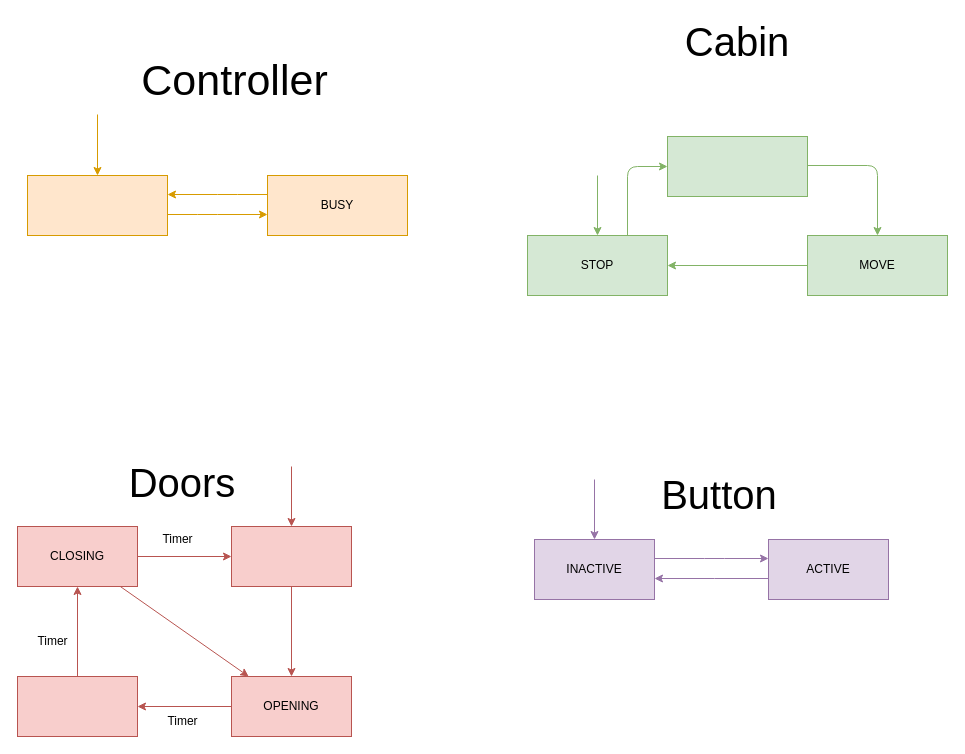
The diagram is 965 pixels wide and 754 high, and some of its shapes have lost their labels. The shapes that lost their labels are listed below. From the top down, each one's centre as x and y in pixels, then its label:
the point at 737,166: WAIT
the point at 97,205: FREE
the point at 291,556: CLOSED
the point at 77,706: OPENED
